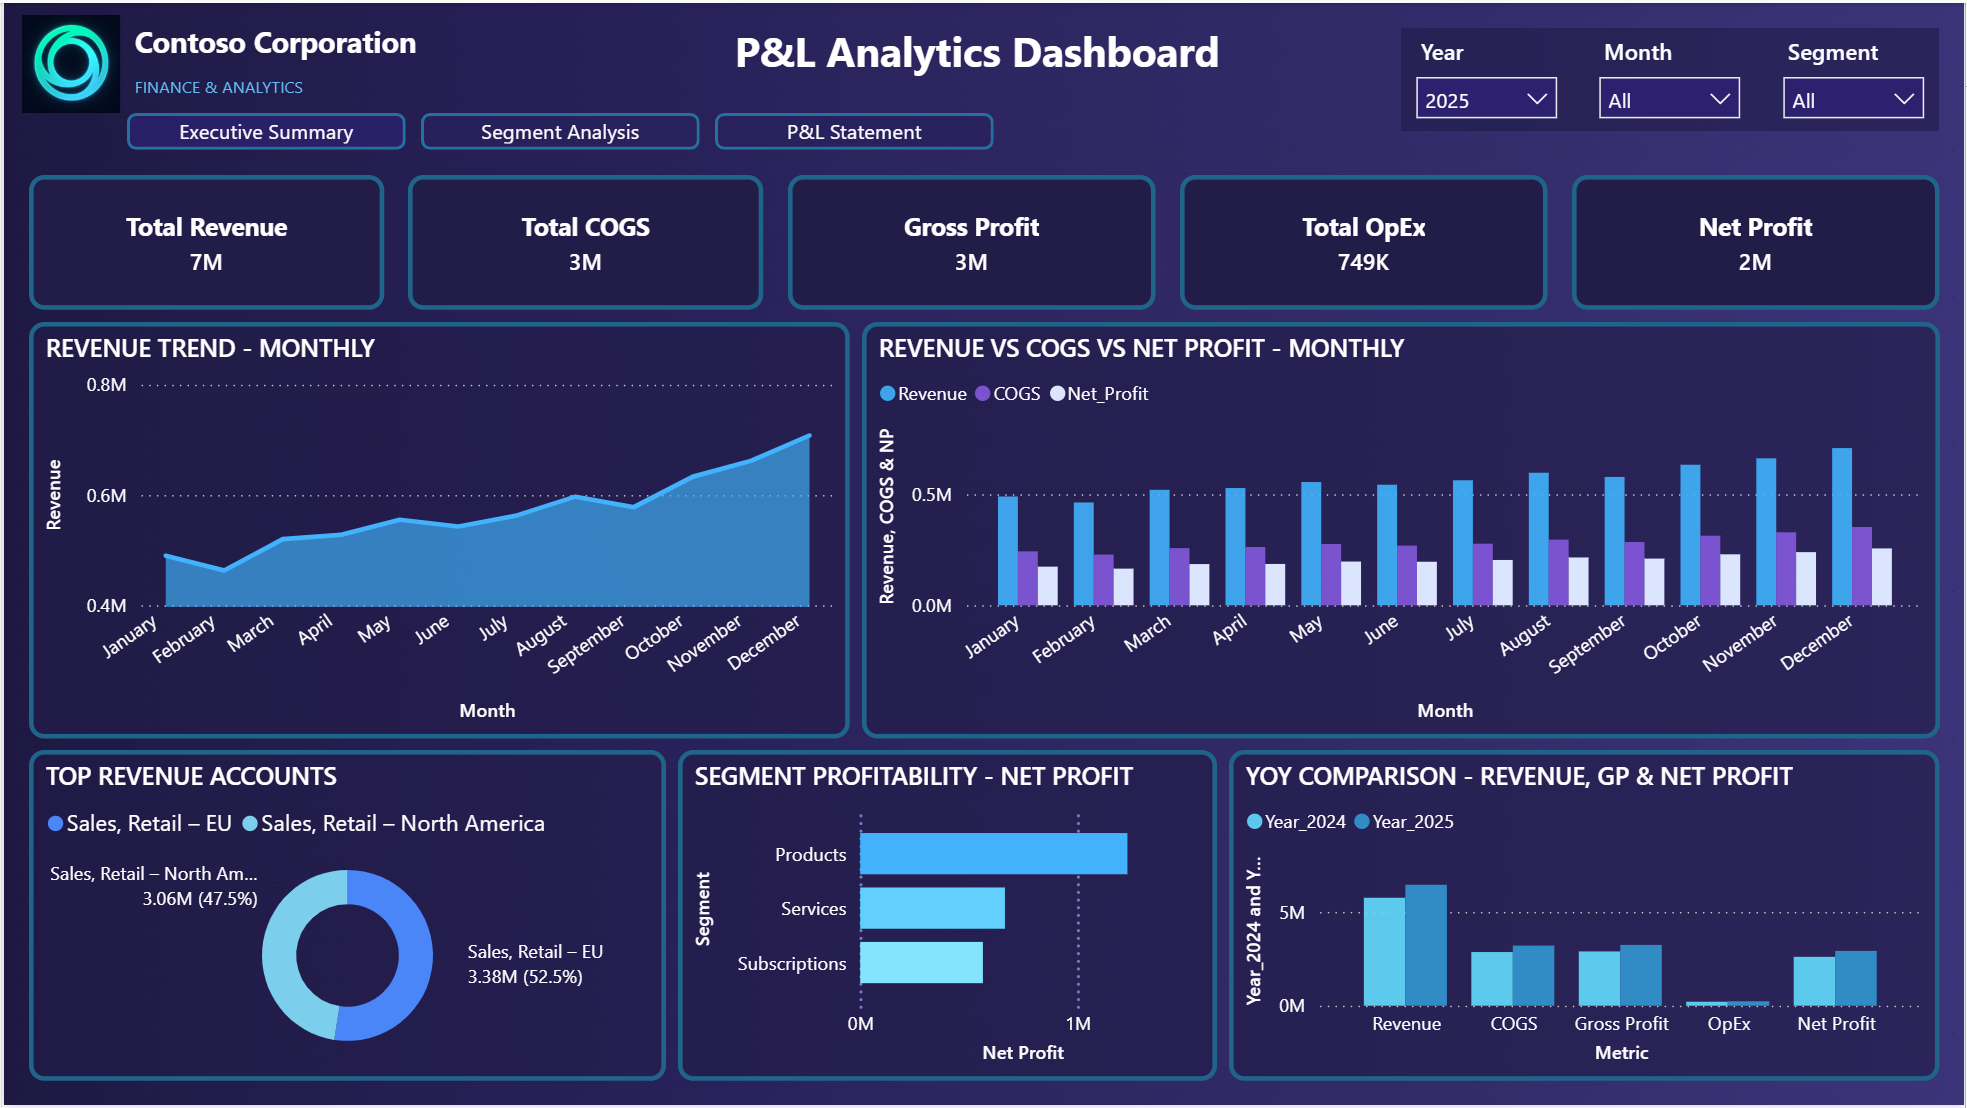

What the dashboard file says about the page in this screenshot:
{"tool":"powerbi","page":{"name":"Executive Summary","canvas":[1280,720],"ordinal":0},"visuals":[{"type":"slicer","title":"YEAR","fields":{"Values":["Monthly_PL.Year"]},"box":[912.5,16.2,111.8,67.5],"z":0,"group":"g1"},{"type":"cardVisual","title":"Revenue","fields":{"Data":["_Measures.Total Revenue"]},"box":[16,112,232,88],"z":0},{"type":"slicer","fields":{"Values":["Monthly_PL.Month"]},"box":[1032.2,16.2,111.8,67.5],"z":1000,"group":"g1"},{"type":"cardVisual","title":"Revenue","fields":{"Data":["_Measures.Total COGS"]},"box":[264,112,232,88],"z":1000},{"type":"slicer","fields":{"Values":["Monthly_PL.Segment"]},"box":[1152,16.2,111.8,67.5],"z":2000,"group":"g1"},{"type":"cardVisual","title":"Revenue","fields":{"Data":["_Measures.Gross Profit"]},"box":[512,112,240,88],"z":2000},{"type":"cardVisual","title":"Revenue","fields":{"Data":["_Measures.Total OpEx"]},"box":[768,112,240,88],"z":3000},{"type":"cardVisual","title":"Revenue","fields":{"Data":["_Measures.Net Profit"]},"box":[1024,112,240,88],"z":4000},{"type":"stackedAreaChart","title":"REVENUE TREND - MONTHLY","fields":{"Category":["Calendar.Date.Variation.Date Hierarchy.Month"],"Y":["Sum(Monthly_PL.Revenue)"]},"box":[16,208,536,272],"z":5000},{"type":"clusteredColumnChart","title":"REVENUE VS COGS VS NET PROFIT - MONTHLY","fields":{"Category":["Calendar.Date.Variation.Date Hierarchy.Month"],"Y":["Sum(Monthly_PL.Revenue)","Sum(Monthly_PL.COGS)","Sum(Monthly_PL.Net_Profit)"]},"box":[560,208,704,272],"z":6000},{"type":"donutChart","title":"TOP REVENUE ACCOUNTS","fields":{"Category":["Top_Revenue_Accounts.Account_Name"],"Y":["Sum(Top_Revenue_Accounts.YTD_Amount)"]},"box":[16,488,416,216],"z":7000},{"type":"barChart","title":"SEGMENT PROFITABILITY - NET PROFIT","fields":{"Y":["Sum(Monthly_PL.Net_Profit)"],"Category":["Monthly_PL.Segment"]},"box":[440,488,352,216],"z":8000},{"type":"clusteredColumnChart","title":"YOY COMPARISON - REVENUE, GP & NET PROFIT","fields":{"Category":["YoY_Comparison.Metric"],"Y":["Sum(YoY_Comparison.Year_2024)","Sum(YoY_Comparison.Year_2025)"]},"box":[800,488,464,216],"z":9000},{"type":"image","box":[8,8,72,64],"z":10000},{"type":"pageNavigator","box":[80,72,568,24],"z":11000},{"type":"textbox","box":[472,8,336,56],"z":12000},{"type":"textbox","box":[80,8,224,40],"z":13000},{"type":"textbox","box":[80,40,224,32],"z":14000},{"type":"group","id":"g1","title":"Group 1","box":[912.5,16.2,351.2,67.5],"z":15000}]}

Visuals, with their boxes in screenshot pixels (x1, y1, x2, y2), scaled from the page's 1280x720 canvas onto the 1967x1108 screenshot:
"YEAR" slicer: (x1=1402, y1=25, x2=1574, y2=129)
"Revenue" cardVisual: (x1=25, y1=172, x2=381, y2=308)
slicer - Monthly_PL.Month: (x1=1586, y1=25, x2=1758, y2=129)
"Revenue" cardVisual: (x1=406, y1=172, x2=762, y2=308)
slicer - Monthly_PL.Segment: (x1=1770, y1=25, x2=1942, y2=129)
"Revenue" cardVisual: (x1=787, y1=172, x2=1156, y2=308)
"Revenue" cardVisual: (x1=1180, y1=172, x2=1549, y2=308)
"Revenue" cardVisual: (x1=1574, y1=172, x2=1942, y2=308)
"REVENUE TREND - MONTHLY" stackedAreaChart: (x1=25, y1=320, x2=848, y2=739)
"REVENUE VS COGS VS NET PROFIT - MONTHLY" clusteredColumnChart: (x1=861, y1=320, x2=1942, y2=739)
"TOP REVENUE ACCOUNTS" donutChart: (x1=25, y1=751, x2=664, y2=1083)
"SEGMENT PROFITABILITY - NET PROFIT" barChart: (x1=676, y1=751, x2=1217, y2=1083)
"YOY COMPARISON - REVENUE, GP & NET PROFIT" clusteredColumnChart: (x1=1229, y1=751, x2=1942, y2=1083)
image: (x1=12, y1=12, x2=123, y2=111)
pageNavigator: (x1=123, y1=111, x2=996, y2=148)
textbox: (x1=725, y1=12, x2=1242, y2=98)
textbox: (x1=123, y1=12, x2=467, y2=74)
textbox: (x1=123, y1=62, x2=467, y2=111)
"Group 1" group: (x1=1402, y1=25, x2=1942, y2=129)
